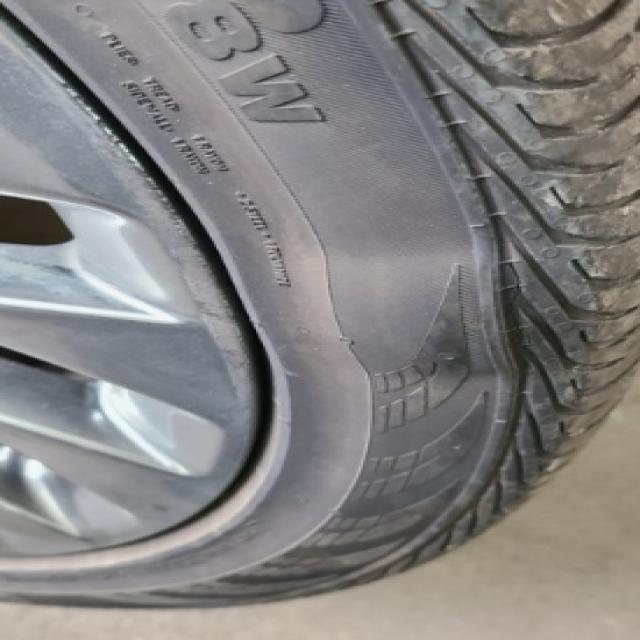Bulge: (290, 241, 552, 396)
